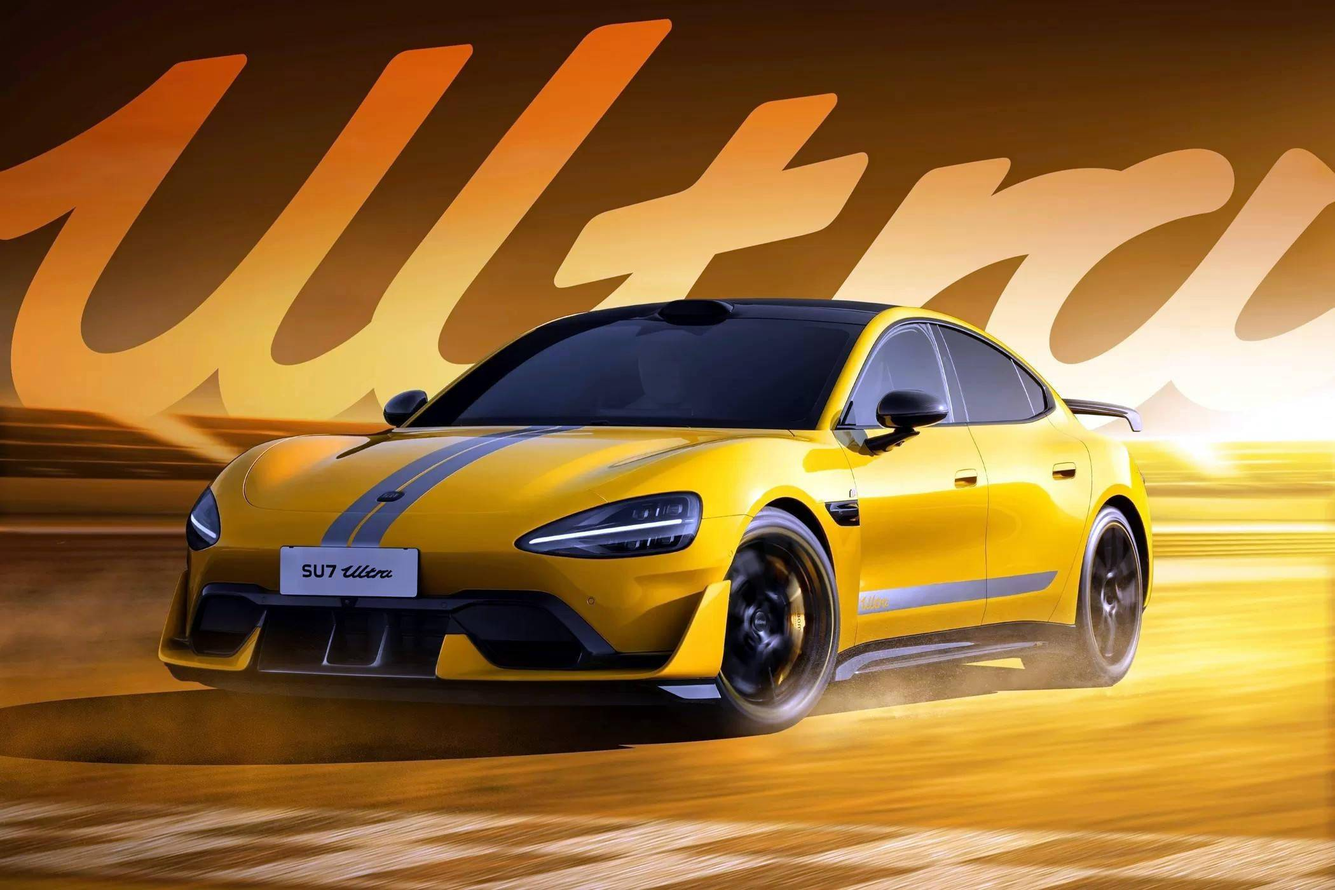su7: (156, 317, 1163, 715)
